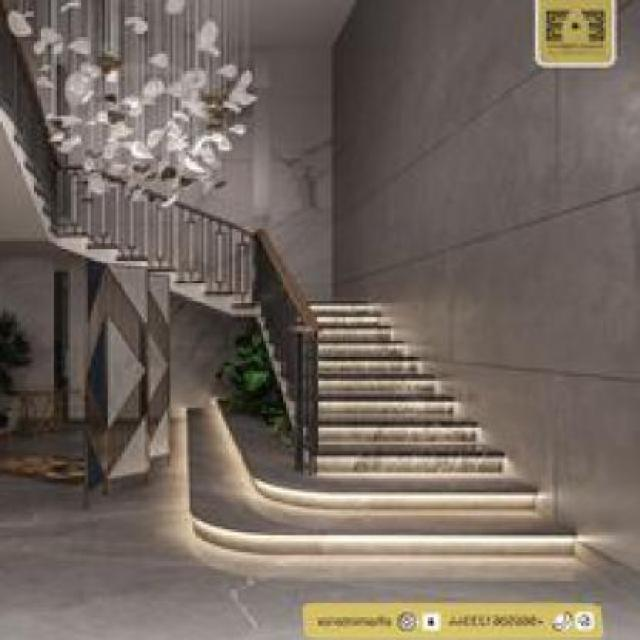stair: (220, 254, 526, 490)
